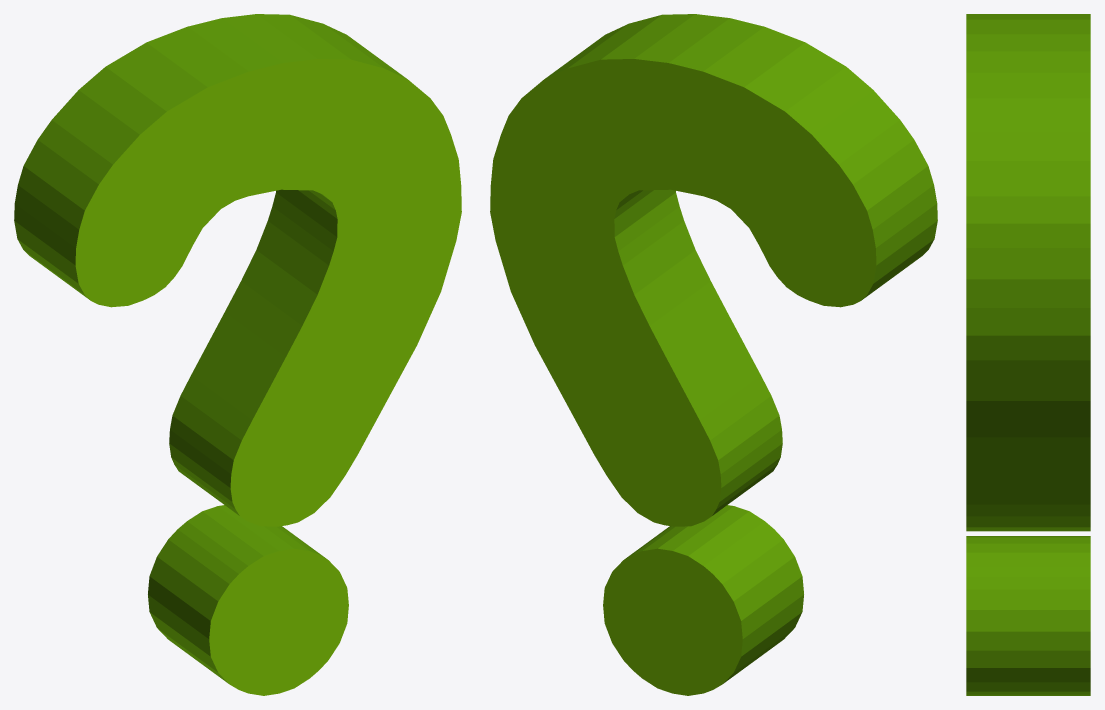
Rendered from question mark.FBX.
3 renders of one model, left to right at view 1: azimuth 30°, elevation 25°; view 2: azimuth 150°, elevation 25°; view 3: azimuth 270°, elevation 25°, orthographic.
Parts seen in each view (by area): view 1: question mark; view 2: question mark; view 3: question mark.
Boxes of the visible parts, left/top/right/bottom form: question mark: left=14, top=14, right=461, bottom=695; question mark: left=490, top=14, right=937, bottom=695; question mark: left=966, top=14, right=1090, bottom=695.
Size of the model in its own units: 24.6 by 38.3 by 6.77.
